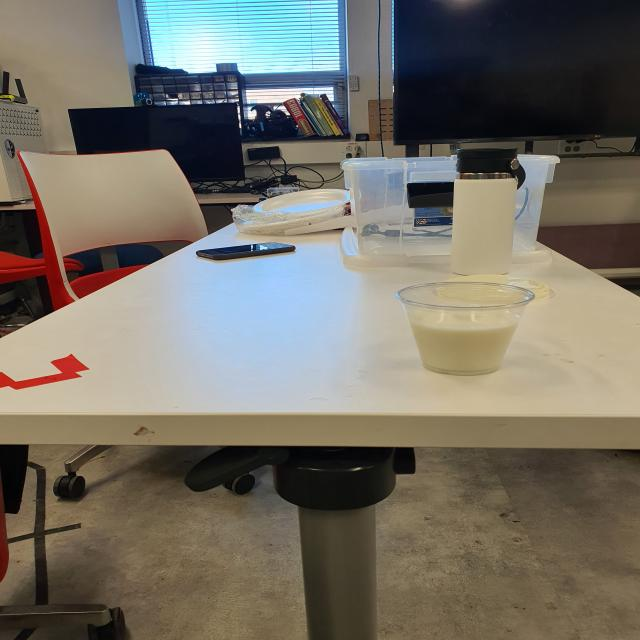Milk: (388, 264, 572, 409)
